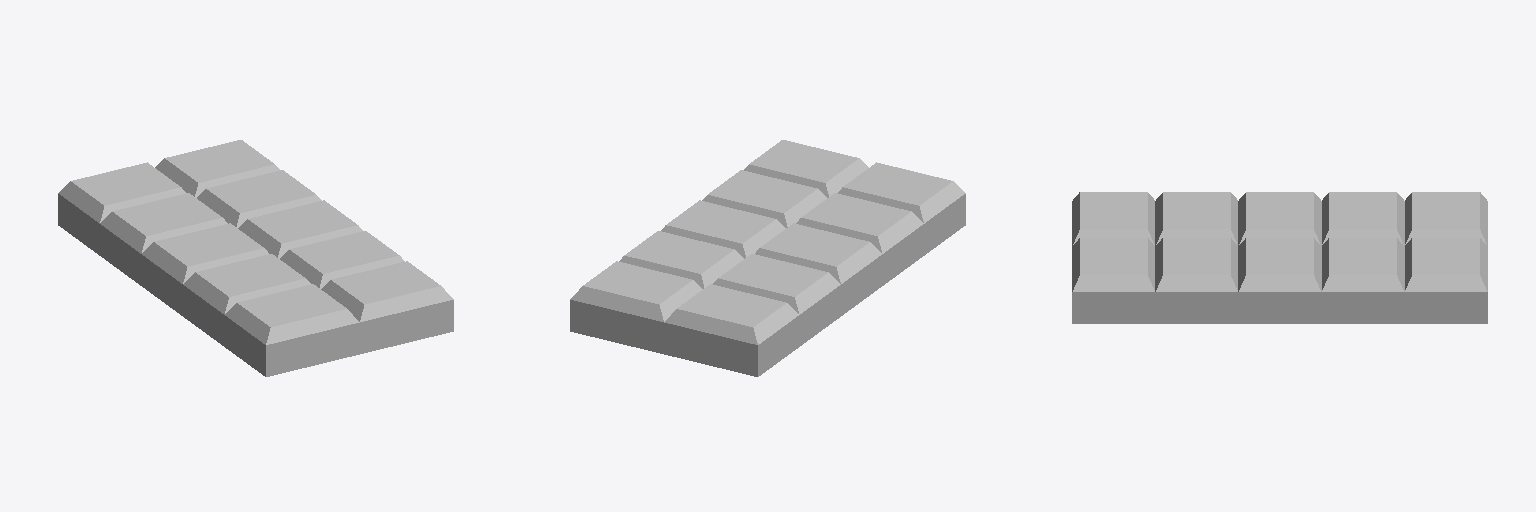
The model's file is 2carreChocolate.obj.
The picture shows the model from 3 angles: view 1: azimuth 30°, elevation 25°; view 2: azimuth 150°, elevation 25°; view 3: azimuth 270°, elevation 25°; orthographic projection.
Parts seen in each view (by area): view 1: chocolate_bar; view 2: chocolate_bar; view 3: chocolate_bar.
Part boxes in pixels (x1,y1,x2,y2): chocolate_bar: (58,140,453,376); chocolate_bar: (570,140,965,376); chocolate_bar: (1072,192,1487,323).
Size of the model in its own units: 0.6031 by 0.1382 by 1.16.